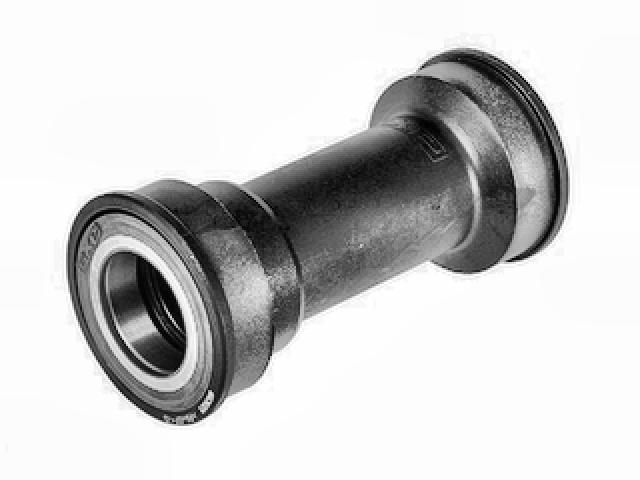bottom_bracket: (65, 46, 570, 428)
